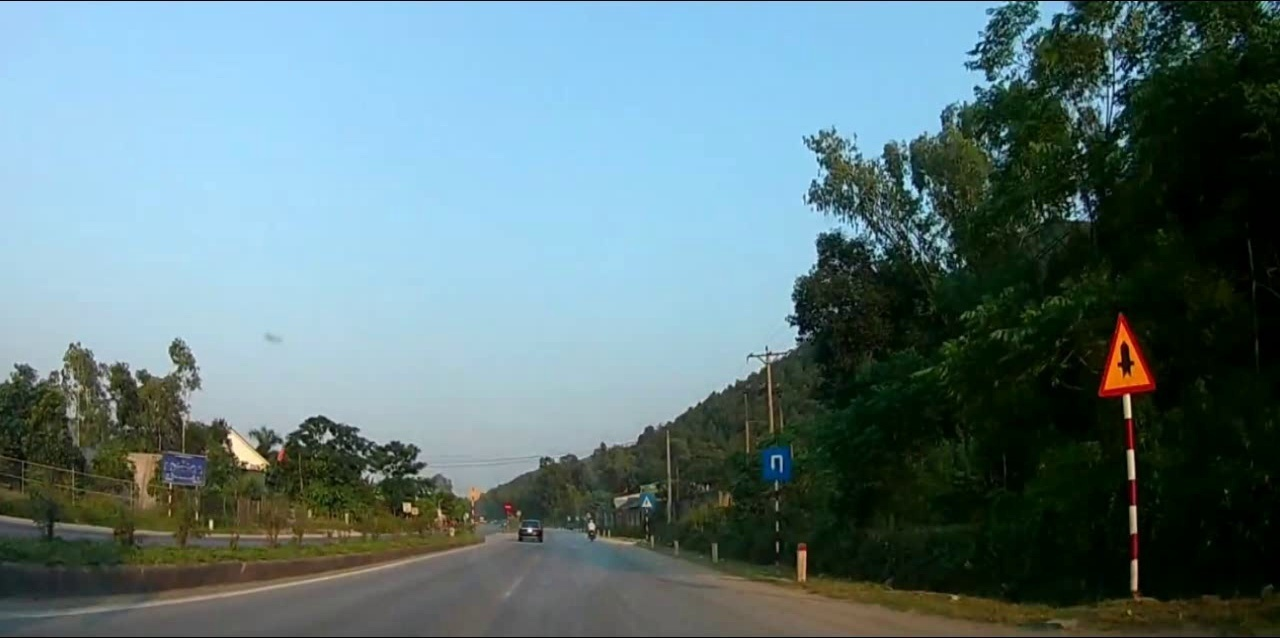Bien khac: (762, 444, 793, 482)
Cam di nguoc chieu: (504, 502, 512, 513)
Giao nhau voi duong khong uu tien: (1098, 312, 1155, 396)
Nguoi di bo: (638, 491, 657, 510)
